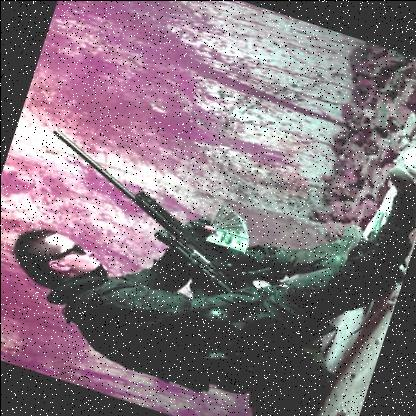rifle: (18, 126, 290, 298)
